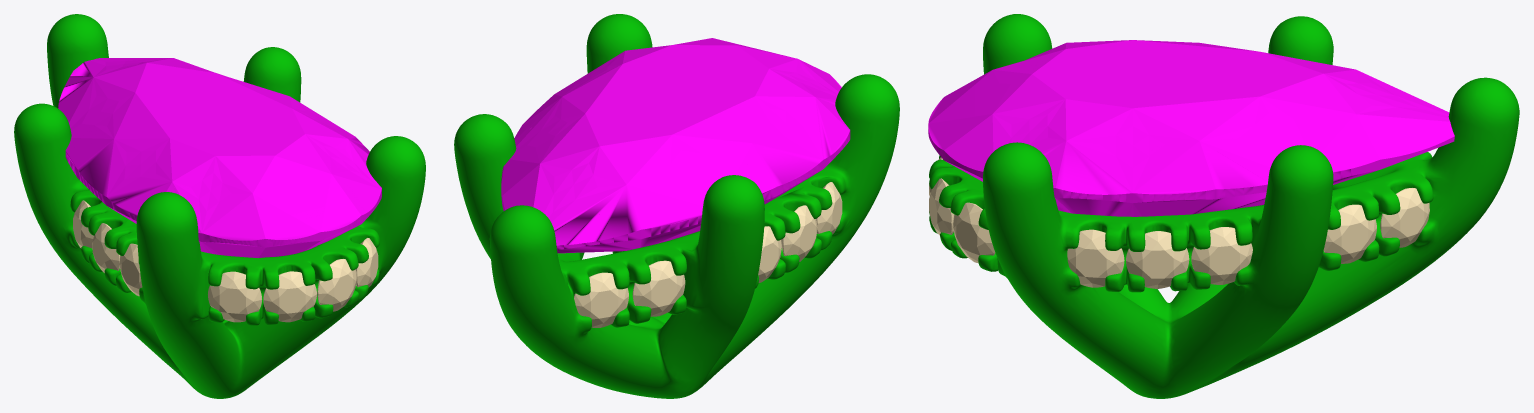
3 renders of one model, left to right at view 1: azimuth 30°, elevation 25°; view 2: azimuth 150°, elevation 25°; view 3: azimuth 270°, elevation 25°, orthographic. The views are drawn at different scales.
Parts seen in each view (by area): view 1: Metal01, Diamond_Pear, Diamond_Round.008, Diamond_Round.007, Diamond_Round.006, Diamond_Round.010, Diamond_Round.009, Diamond_Round.005, Diamond_Round.011; view 2: Metal01, Diamond_Pear, Diamond_Round.013, Diamond_Round.012, Diamond_Round.010, Diamond_Round.011, Diamond_Round.009; view 3: Metal01, Diamond_Pear, Diamond_Round.002, Diamond_Round, Diamond_Round.001, Diamond_Round.004, Diamond_Round.003, Diamond_Round.005, Diamond_Round.006.
Part boxes in pixels (bbox=[...]): Metal01: bbox=[14, 14, 425, 398]; Diamond_Pear: bbox=[58, 58, 381, 258]; Diamond_Round.008: bbox=[208, 271, 261, 322]; Diamond_Round.007: bbox=[263, 271, 316, 322]; Diamond_Round.006: bbox=[317, 259, 356, 311]; Diamond_Round.010: bbox=[92, 223, 120, 272]; Diamond_Round.009: bbox=[119, 243, 142, 296]; Diamond_Round.005: bbox=[355, 238, 378, 287]; Diamond_Round.011: bbox=[73, 200, 93, 248]; Metal01: bbox=[454, 14, 899, 398]; Diamond_Pear: bbox=[501, 38, 850, 253]; Diamond_Round.013: bbox=[574, 272, 628, 327]; Diamond_Round.012: bbox=[632, 260, 685, 316]; Diamond_Round.010: bbox=[781, 205, 817, 261]; Diamond_Round.011: bbox=[758, 226, 781, 282]; Diamond_Round.009: bbox=[816, 182, 842, 234]; Metal01: bbox=[929, 14, 1519, 398]; Diamond_Pear: bbox=[928, 40, 1454, 216]; Diamond_Round.002: bbox=[1126, 231, 1189, 288]; Diamond_Round: bbox=[1191, 227, 1252, 284]; Diamond_Round.001: bbox=[1067, 229, 1124, 287]; Diamond_Round.004: bbox=[1323, 204, 1376, 263]; Diamond_Round.003: bbox=[1380, 188, 1429, 247]; Diamond_Round.005: bbox=[953, 202, 995, 263]; Diamond_Round.006: bbox=[929, 178, 954, 235].
Size of the model in its own units: 6.17 by 5.81 by 9.81.
